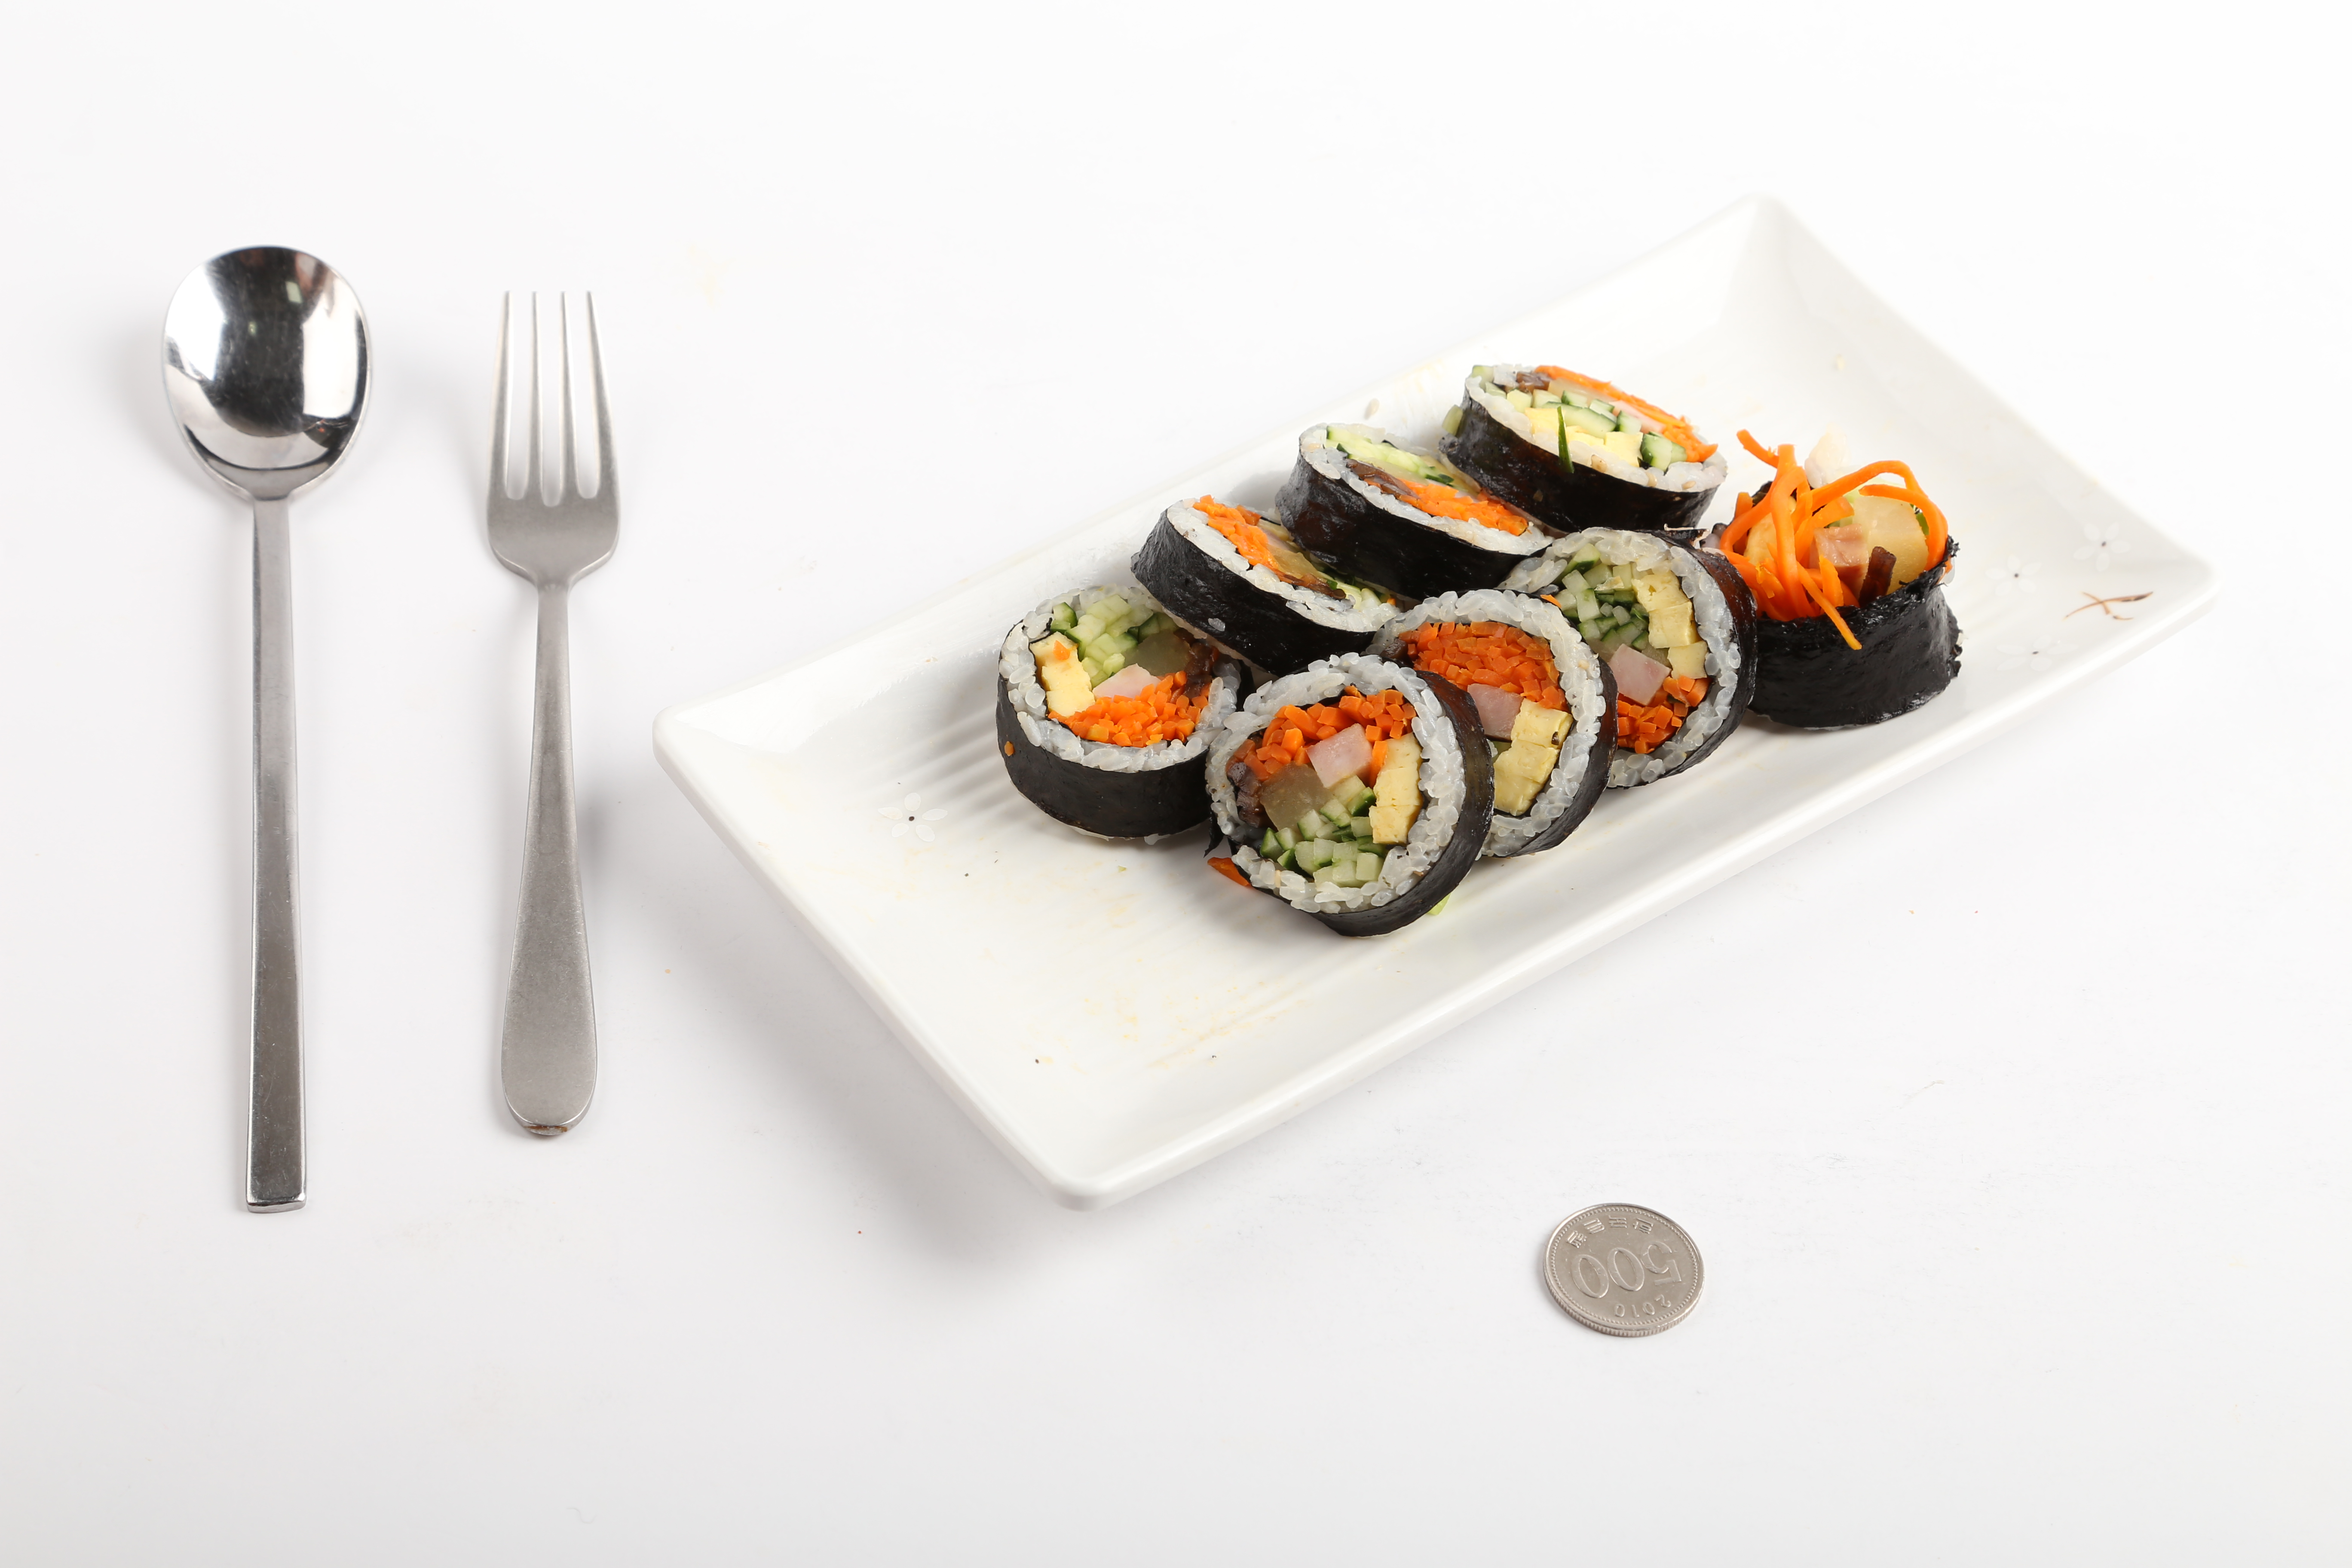dish: (646, 175, 2233, 1218)
ref_coin: (1531, 1188, 1708, 1346)
ref_fork: (479, 280, 625, 639)
ref_spoon: (156, 231, 374, 553)
김밥: (987, 341, 1969, 938)
